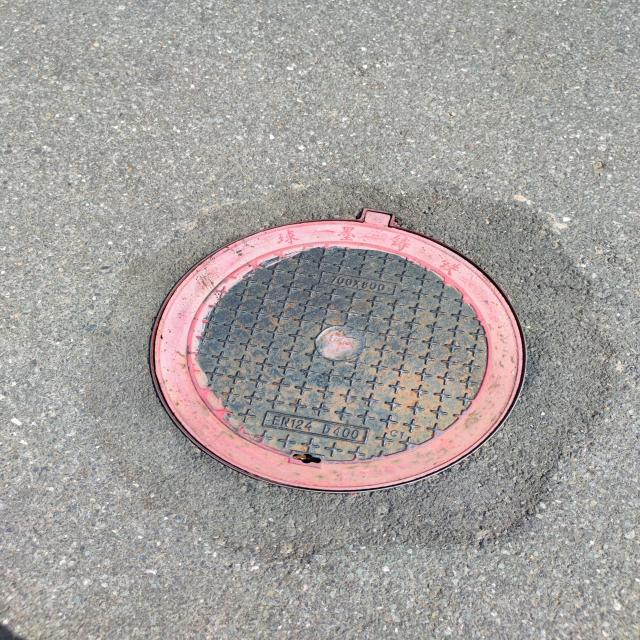Good: (136, 208, 548, 504)
